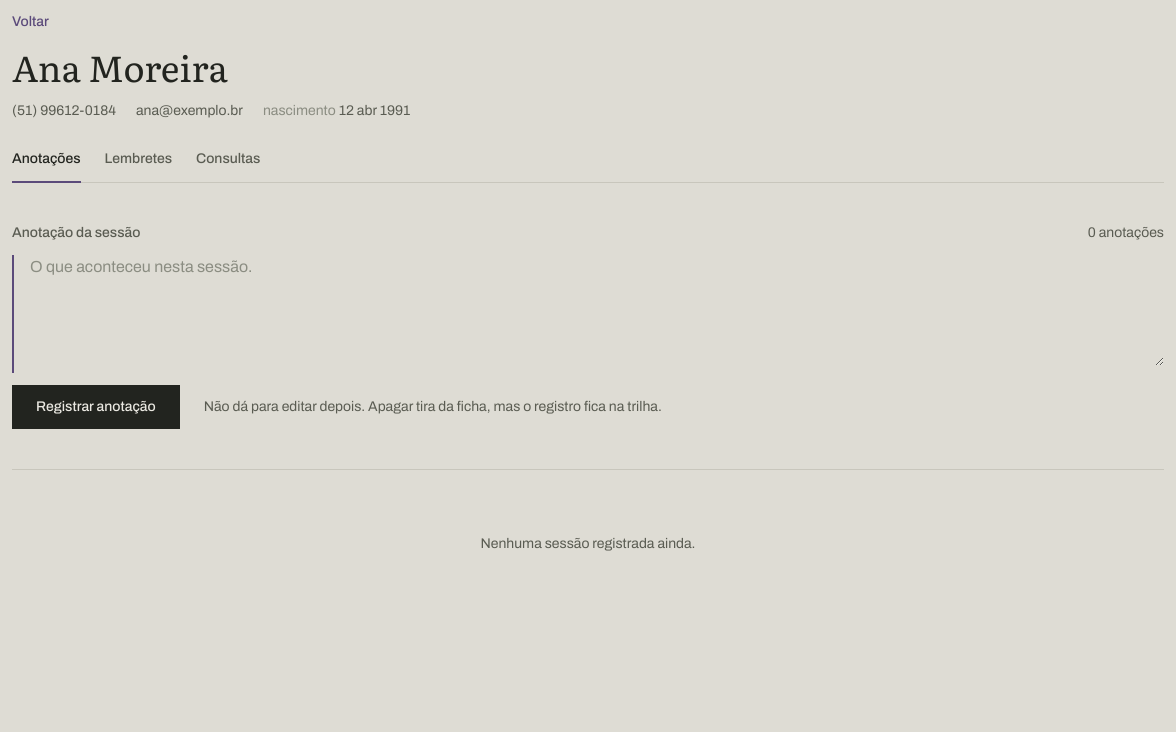
Test case: FichaPage › avisa antes de sair com rascunho pendente
The width and height of the screenshot is (1176, 732).
Type "texto nao enviado" into the text box labelled "Anotação da sessão".
click(597, 310); type("texto nao enviado")  # box [30,255,1164,366]
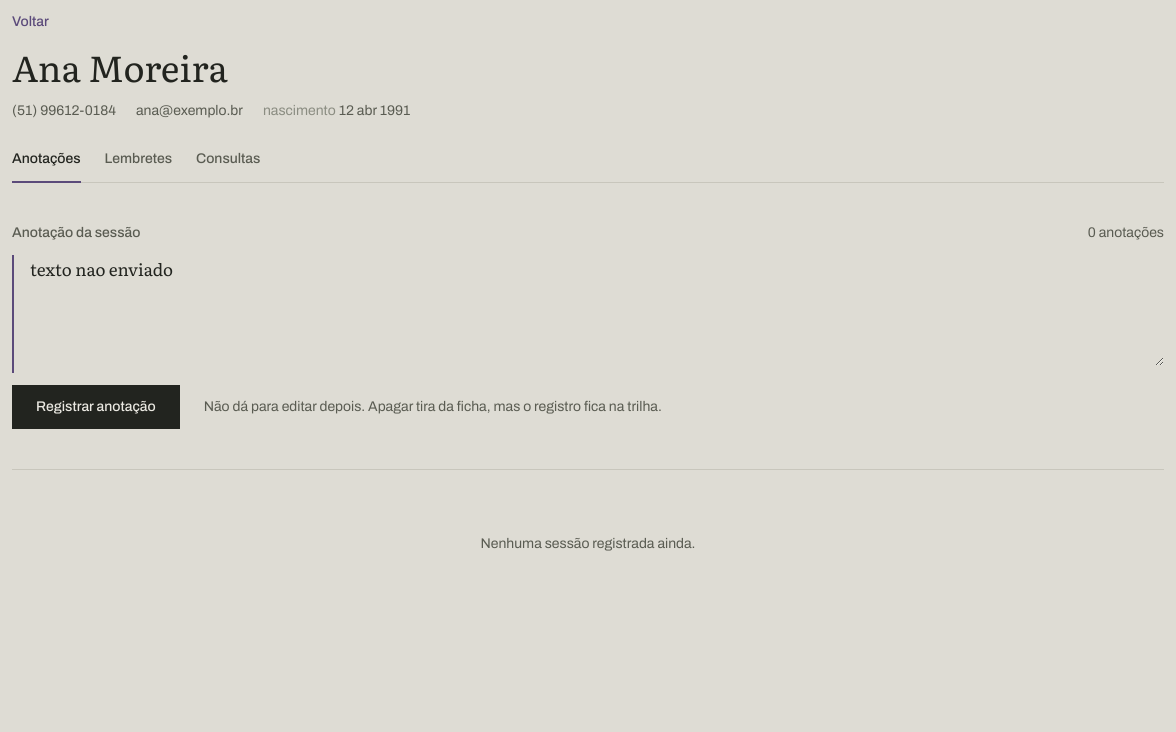
Click the link "Voltar".
click(30, 22)  # box [12,12,49,32]
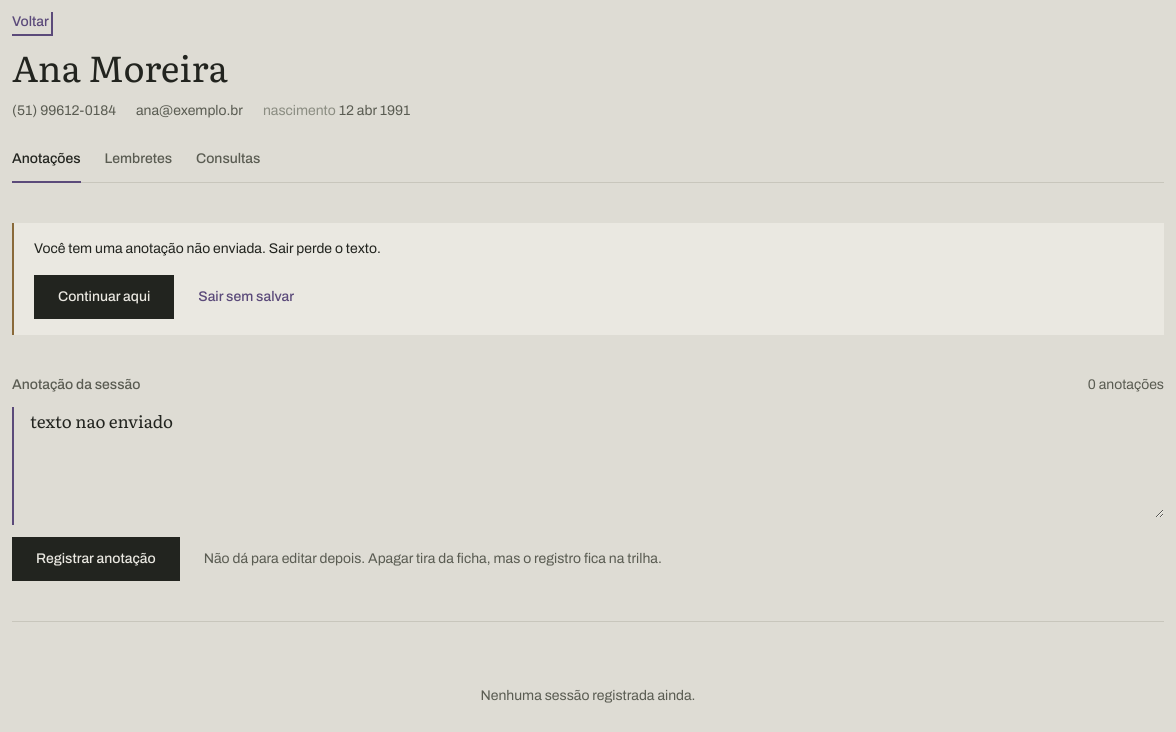
expect the text "Você tem uma anotação não enviada. Sair perde o texto." is shown: met, box [34,241,381,256]
